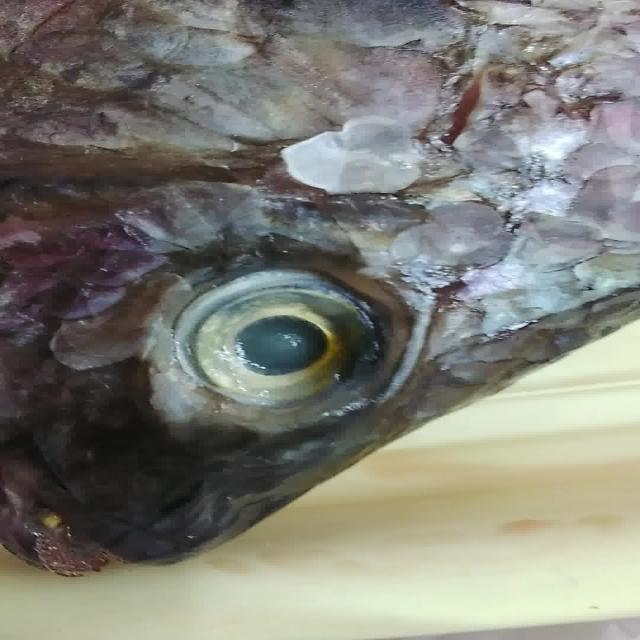Non-Fresh: (20, 3, 622, 241), (128, 246, 413, 434)
